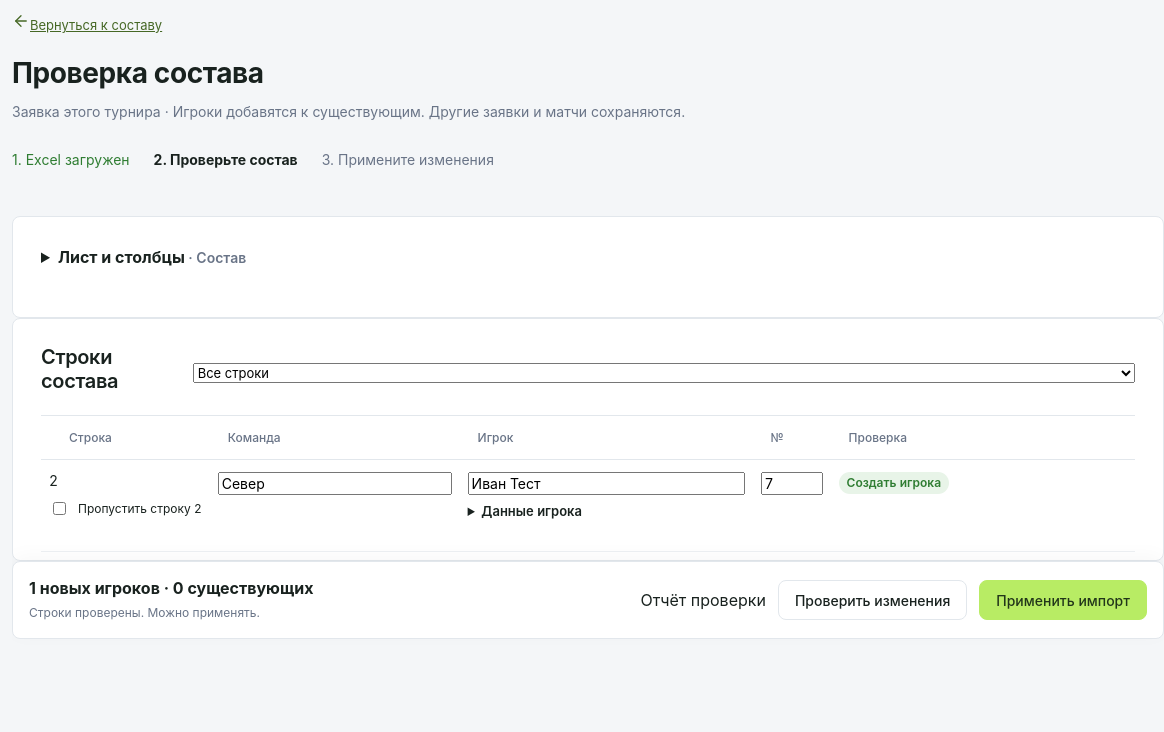
blocks application until edited rows have been checked again
This screenshot has width=1164, height=732.
expect the heading "Проверка состава" is shown: met, box [12,56,264,90]
expect the button "Применить импорт" is enabled: met, box [979,580,1147,620]
Replace the text in the field named "ФИО, строка 2" with "Исправлено" at coordinates (606, 484), box [468,472,745,495]
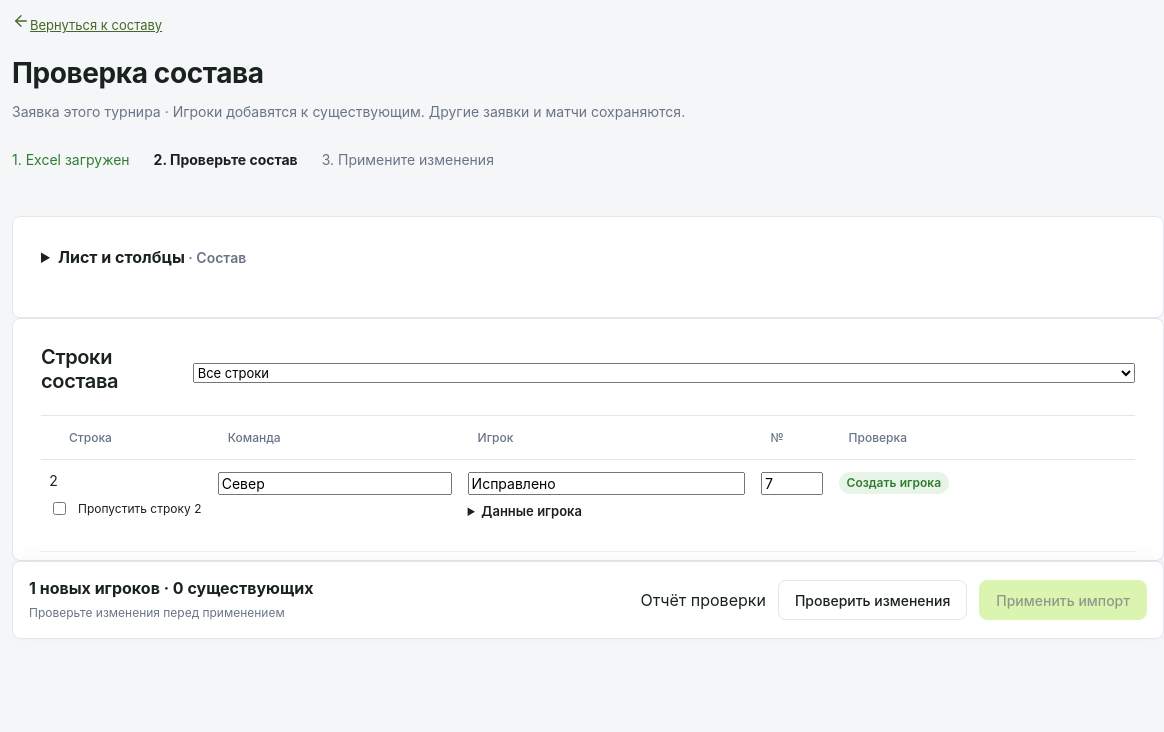
expect the button "Применить импорт" is disabled: met, box [979,580,1147,620]
expect the text "Проверьте изменения перед применением" is shown: met, box [29,604,313,622]
